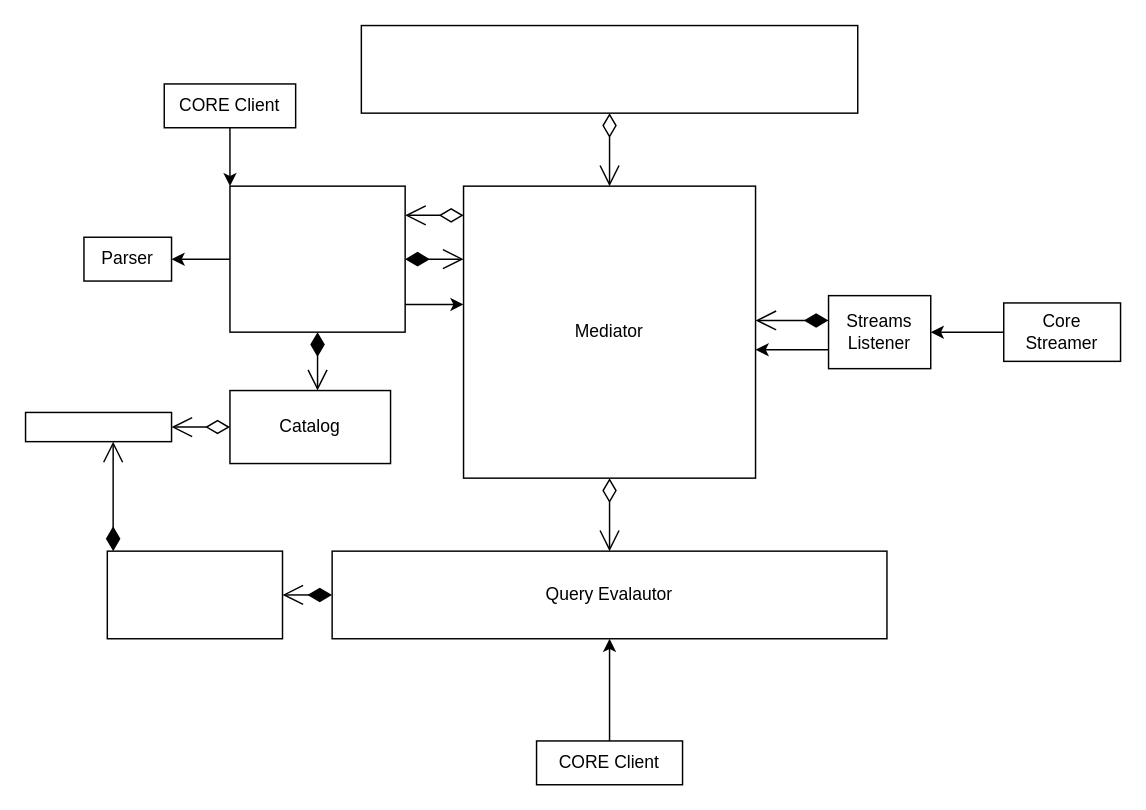
This 1146x810 diagram has some shape labels left out. Each missing label, with the centre of its shape:
"Ring Tuple Queue" belongs at (x=194, y=594).
"Router" belongs at (x=316, y=258).
"Server Façade" belongs at (x=609, y=68).
"Tuple Schemas" belongs at (x=98, y=426).
